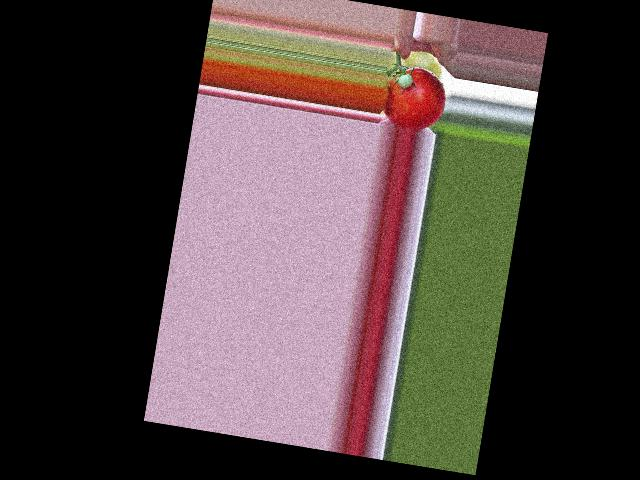tomato: (381, 62, 449, 135)
